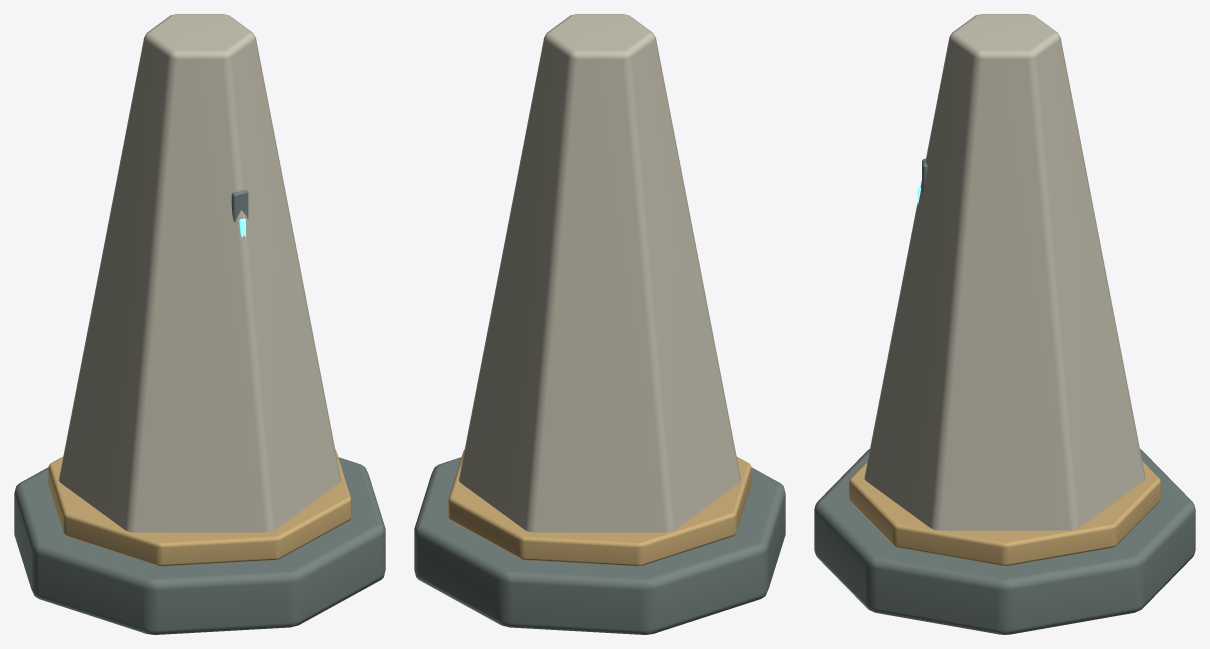
Rendered from SM_Waystone_Rune_01.fbx.
The picture shows the model from 3 angles, left to right: view 1: azimuth 30°, elevation 25°; view 2: azimuth 150°, elevation 25°; view 3: azimuth 270°, elevation 25°; orthographic projection.
Parts seen in each view (by area): view 1: SM_Waystone_Rune_01; view 2: SM_Waystone_Rune_01; view 3: SM_Waystone_Rune_01.
Part boxes in pixels (x1=…): SM_Waystone_Rune_01: x1=14, y1=14, x2=385, y2=634; SM_Waystone_Rune_01: x1=414, y1=14, x2=785, y2=634; SM_Waystone_Rune_01: x1=814, y1=14, x2=1195, y2=634.
Size of the model in its own units: 1.48 by 2.26 by 1.48.
